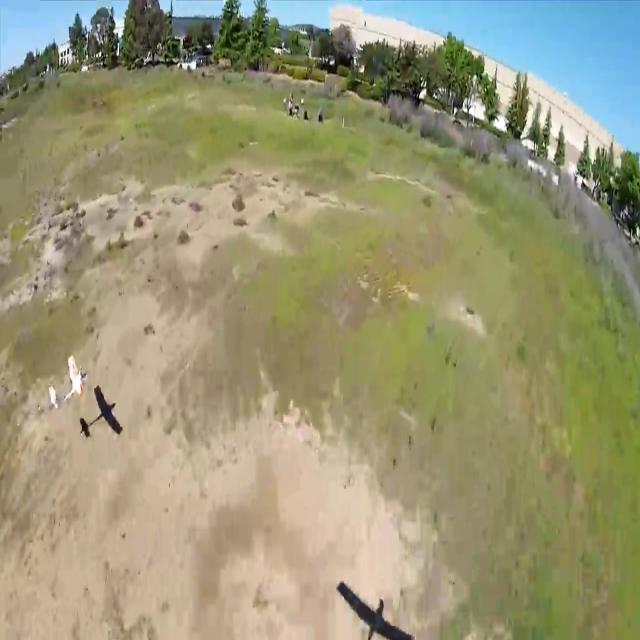iha: (0, 382, 26, 384)
